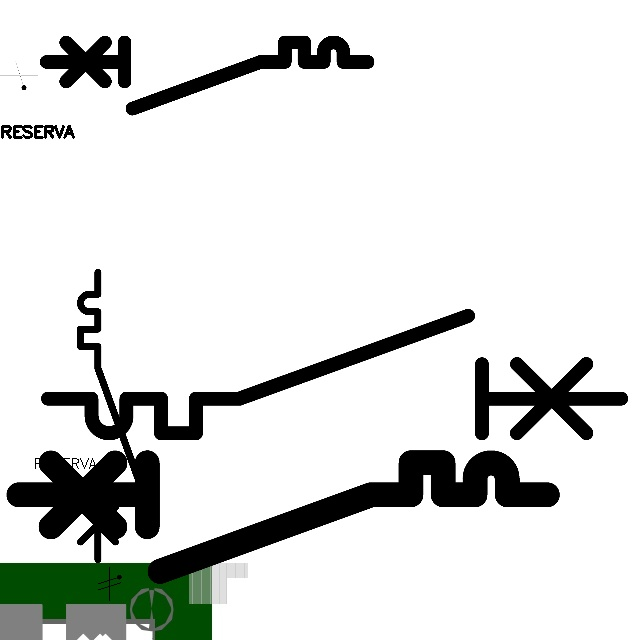interruptor_termomagnetico: (33, 301, 635, 448), (5, 449, 561, 585), (38, 34, 376, 116), (73, 265, 147, 567)
